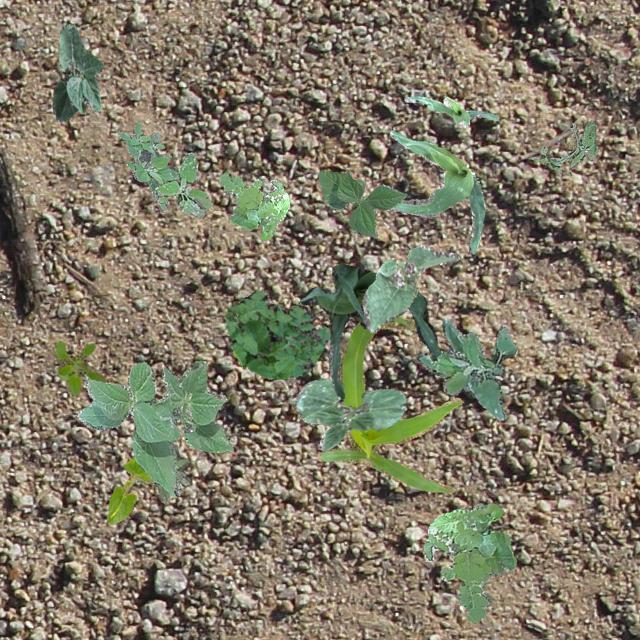crop: (316, 314, 462, 492), (77, 359, 232, 496), (298, 262, 441, 398), (384, 130, 484, 252), (362, 244, 458, 332), (294, 378, 406, 450), (318, 168, 406, 236), (52, 22, 104, 120), (106, 456, 152, 524), (403, 95, 498, 126)
weed: (422, 502, 516, 622), (416, 318, 516, 419), (224, 288, 330, 378), (116, 121, 178, 212), (218, 172, 288, 238), (154, 152, 212, 216), (530, 120, 596, 174), (134, 442, 188, 502), (52, 340, 104, 398)
